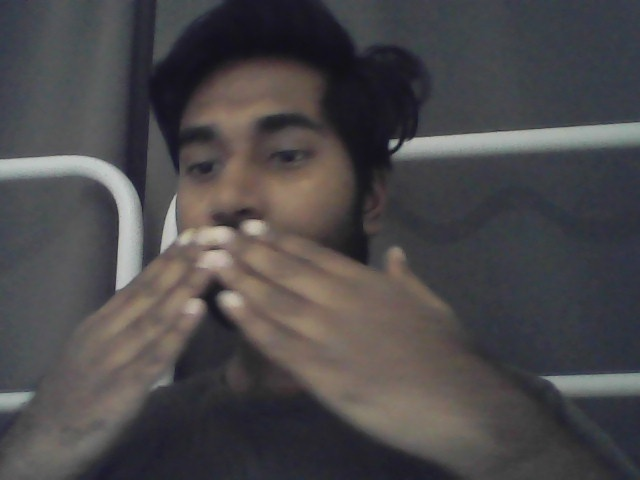thanks: (10, 217, 575, 472)
